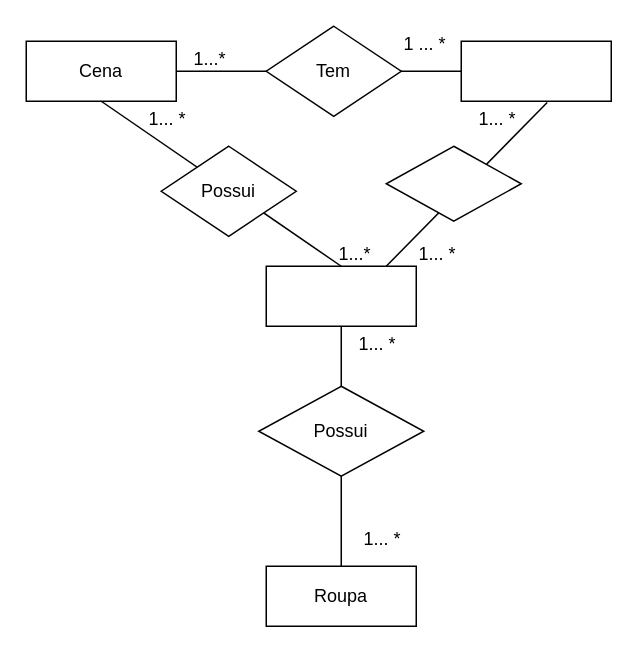
This 638x653 diagram has some shape labels left out. Each missing label, with the centre of its shape:
"Figurino" goes at (340,295).
"Personagem" goes at (535,70).
"Pode verstir" goes at (453,183).
